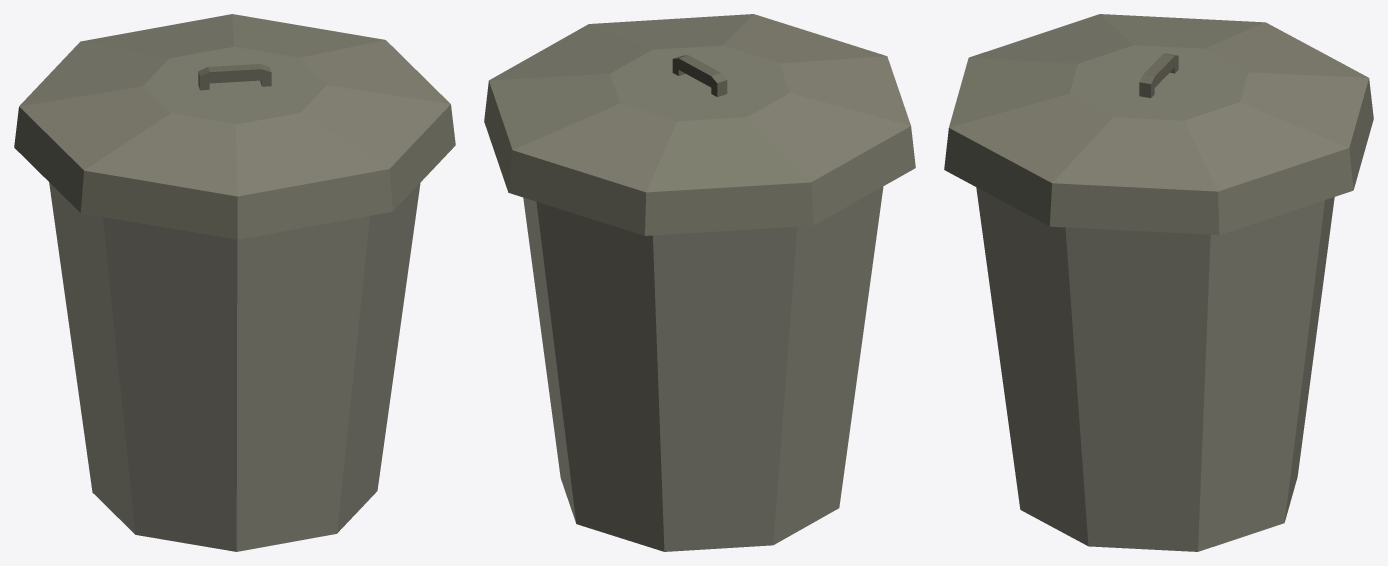
Rendered from TrashCan.fbx.
3 renders of one model, left to right at view 1: azimuth 30°, elevation 25°; view 2: azimuth 150°, elevation 25°; view 3: azimuth 270°, elevation 25°, orthographic.
Parts seen in each view (by area): view 1: Trash Can; view 2: Trash Can; view 3: Trash Can.
Boxes of the visible parts, x1,y1,x2,y2 form: Trash Can: (14,14,455,551); Trash Can: (484,14,915,551); Trash Can: (944,14,1373,551).
Size of the model in its own units: 76.27 by 83.85 by 76.27.
